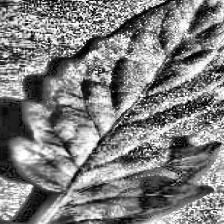leaf mold: (13, 0, 224, 223)
